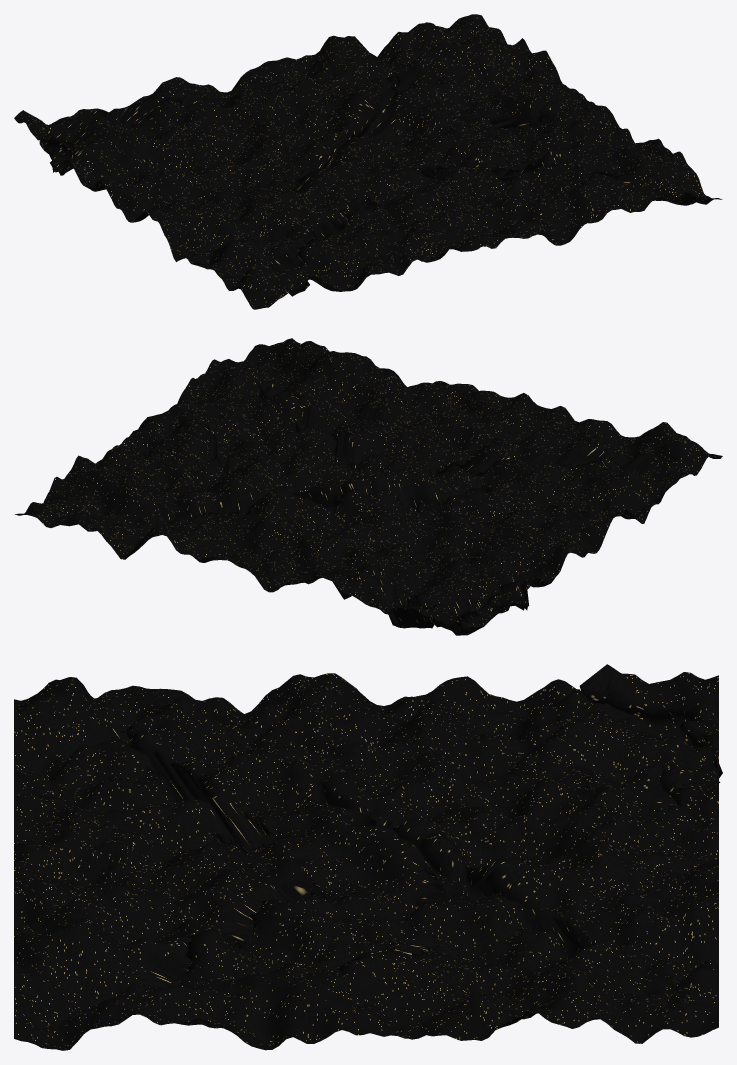
The model's file is background_cloud_sharpdip.obj.
3 renders of one model, top to bottom at view 1: azimuth 30°, elevation 25°; view 2: azimuth 150°, elevation 25°; view 3: azimuth 270°, elevation 25°, orthographic. The views are drawn at different scales.
Bounding box in the file's own units: 2.27 × 0.3516 × 2.01.
1 material, 1 textured.
